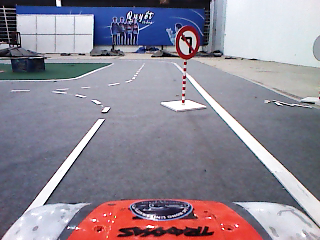ban: (175, 25, 201, 60)
